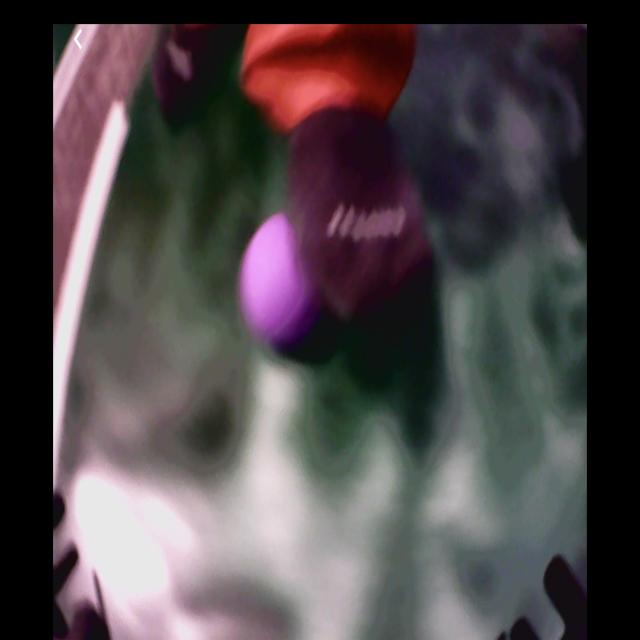ball: (238, 214, 314, 343)
